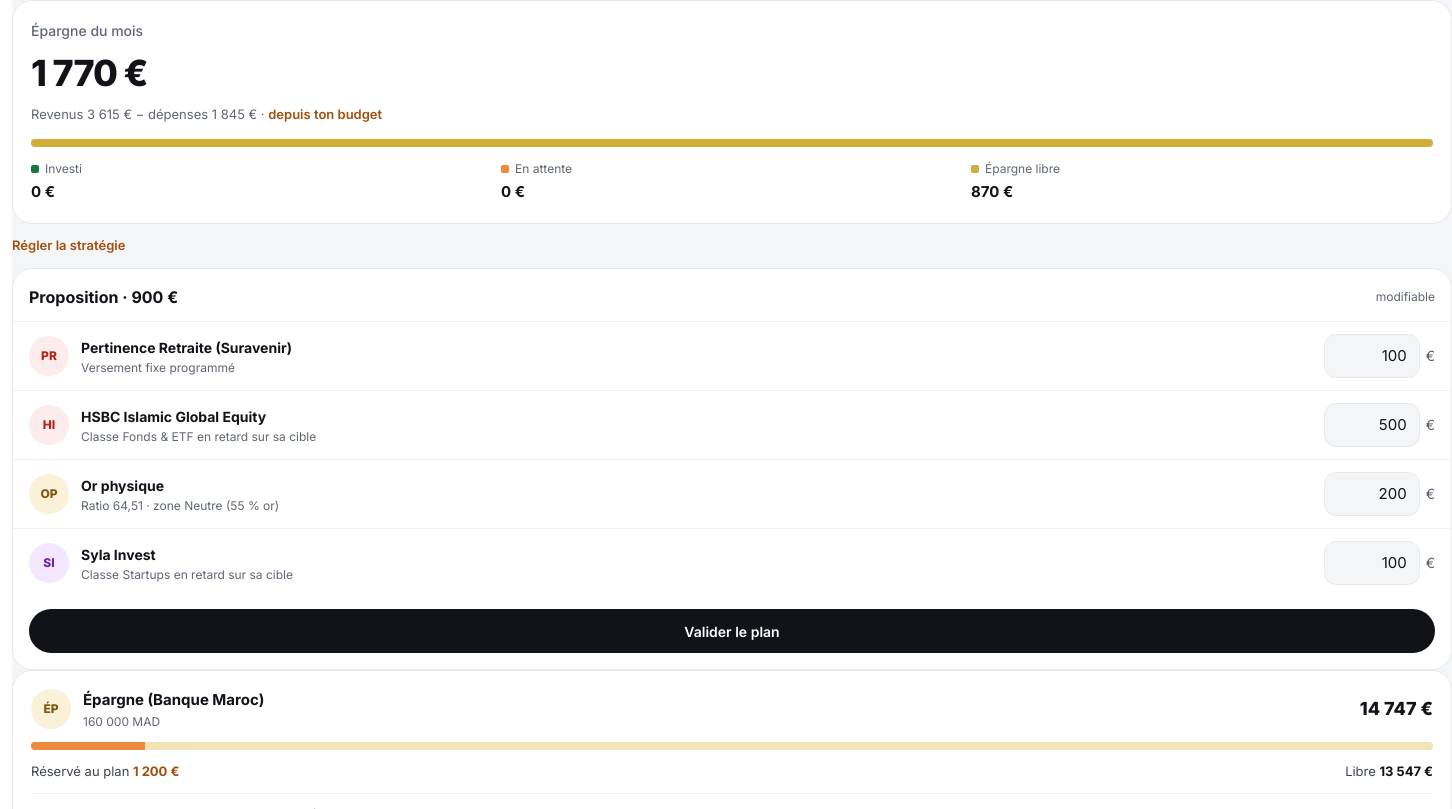
Test: EpargneView — proposition à valider › un champ vide ou illisible désactive le bouton
Clear the field named "Pertinence Retraite" at x=1372, y=356, box [1324,334,1420,378]
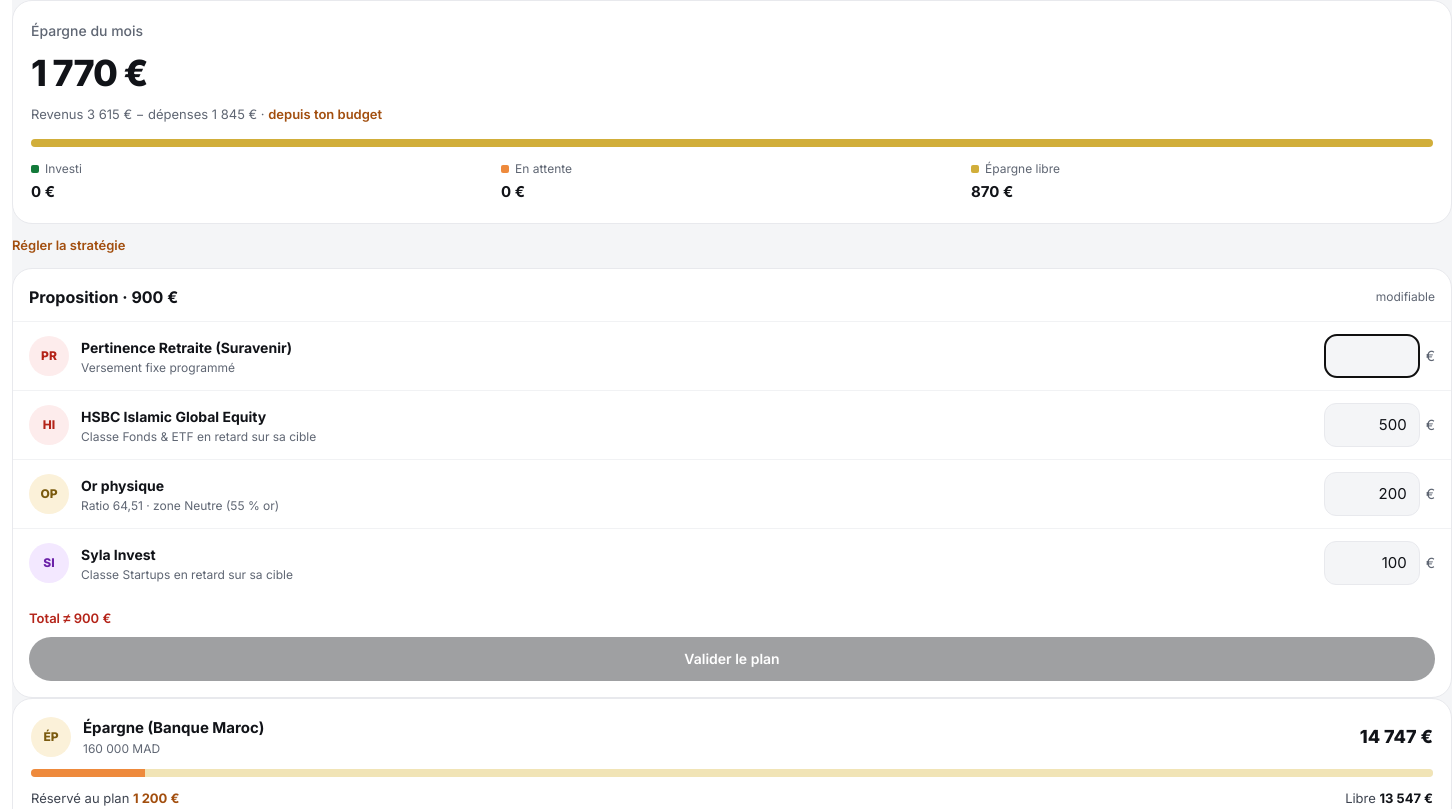
Now the button "Valider le plan" is disabled, box [29,636,1435,680]
